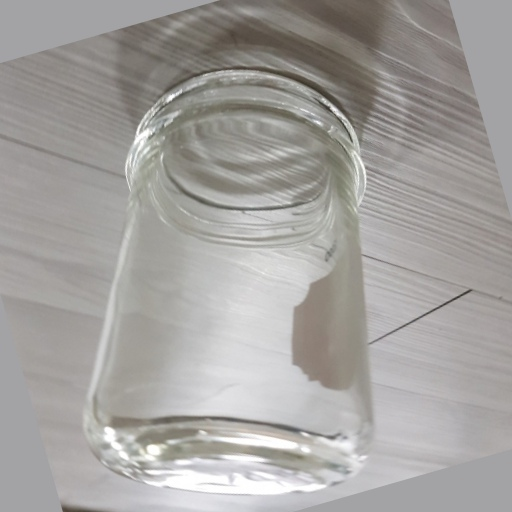Glass_5: (90, 74, 372, 491)
